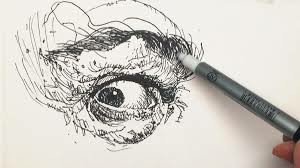pen: (179, 50, 296, 132)
